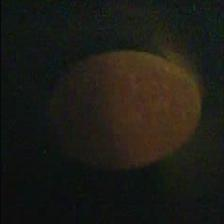fertile: (49, 48, 203, 177)
